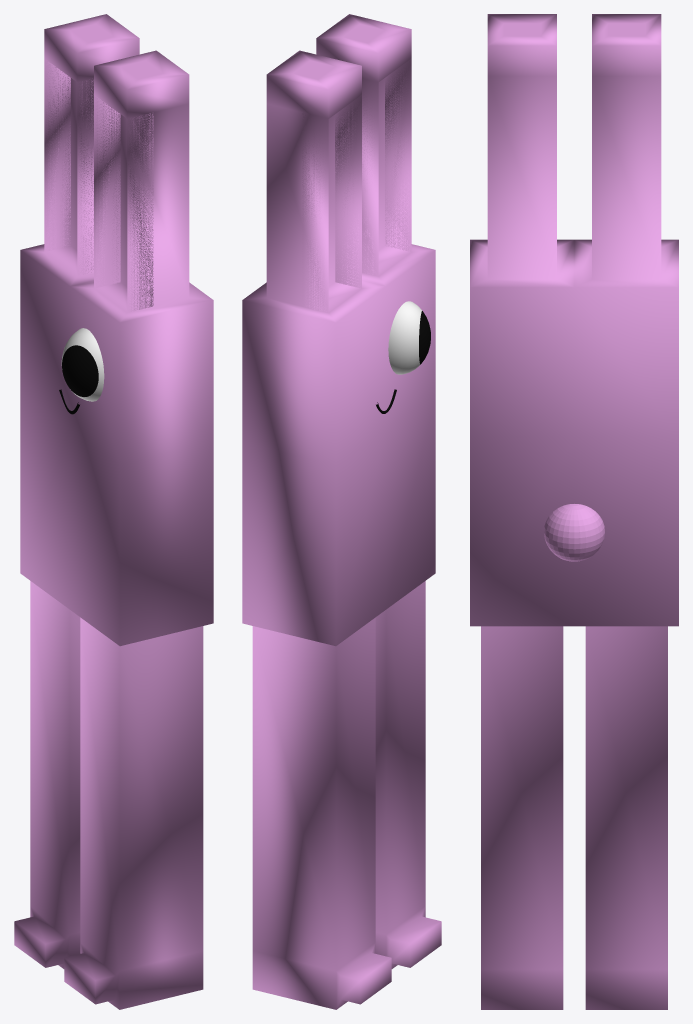
File: rabbit2.glb
The picture shows the model from 3 angles, left to right: view 1: azimuth 30°, elevation 25°; view 2: azimuth 150°, elevation 25°; view 3: azimuth 270°, elevation 25°; orthographic projection. The views are drawn at different scales.
Visible parts, largest first — view 1: 立方体, 球; view 2: 立方体, 球; view 3: 立方体, 球.001.
Boxes of the visible parts, <box> form: 立方体: <box>14,14,213,1009</box>; 球: <box>61,328,104,401</box>; 立方体: <box>242,14,441,1009</box>; 球: <box>388,301,430,374</box>; 立方体: <box>470,14,678,1009</box>; 球.001: <box>544,504,604,561</box>.
Size of the model in its own units: 1.63 by 10.13 by 2.
